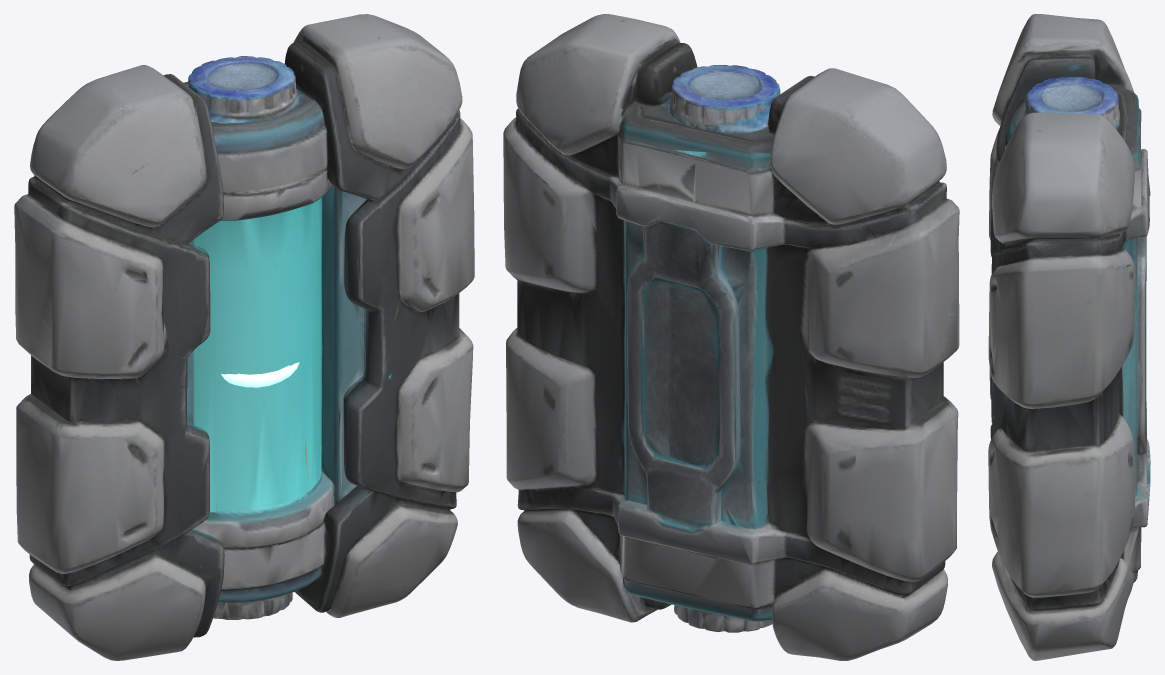
Rendered from Item_V06.fbx.
3 views of the same model, side by side, from view 1: azimuth 30°, elevation 25°; view 2: azimuth 150°, elevation 25°; view 3: azimuth 270°, elevation 25° (orthographic). The views are drawn at different scales.
Parts seen in each view (by area): view 1: Body_V06, CyanHaloRing; view 2: Body_V06; view 3: Body_V06.
Boxes of the visible parts, x1=… form: Body_V06: x1=14, y1=14, x2=474, y2=660; CyanHaloRing: x1=221, y1=362, x2=299, y2=387; Body_V06: x1=503, y1=14, x2=959, y2=660; Body_V06: x1=988, y1=14, x2=1150, y2=660.
Bounding box in the file's own units: 0.1871 × 0.24 × 0.0673.
